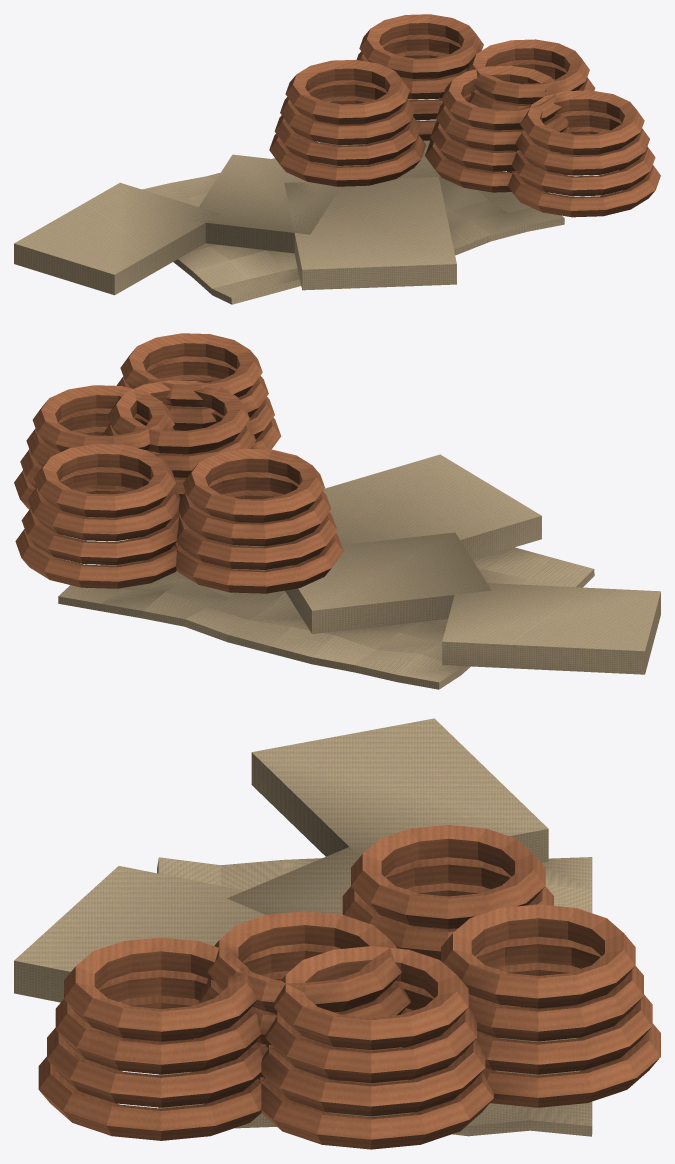
Rendered from mat_rope.hi.glb.
3 views of the same model, one above another, from view 1: azimuth 30°, elevation 25°; view 2: azimuth 150°, elevation 25°; view 3: azimuth 270°, elevation 25° (orthographic). The views are drawn at different scales.
Parts seen in each view (by area): view 1: mat_rope; view 2: mat_rope; view 3: mat_rope.
Part boxes in pixels (box(x1,y1,x2,y2)): mat_rope: box(14, 14, 660, 304); mat_rope: box(14, 333, 660, 689); mat_rope: box(14, 718, 660, 1149).
Size of the model in its own units: 1.43 by 0.275 by 0.8953.
Materials: 2 (2 with a texture image).
